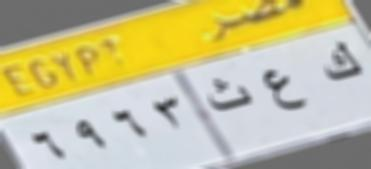3: (153, 88, 190, 131)
6: (30, 122, 69, 168), (113, 105, 150, 146)
9: (73, 110, 108, 158)
ain: (262, 60, 309, 124)
kaaf: (322, 36, 364, 90)
thaa: (203, 75, 257, 116)
